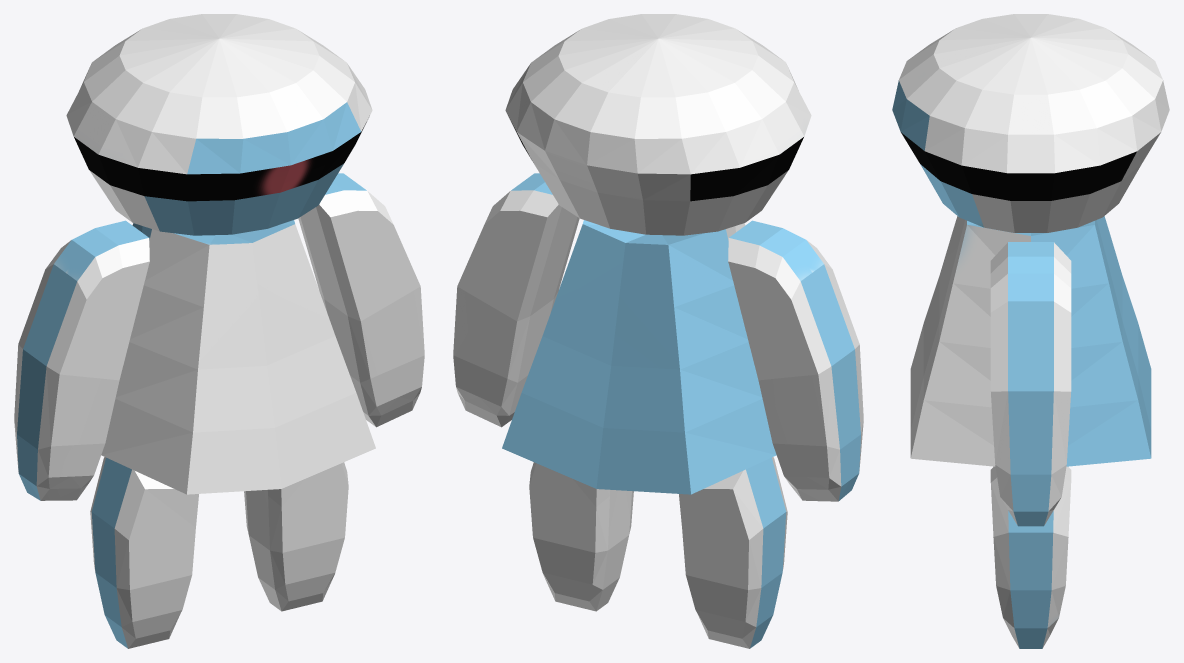
The model's file is Player.obj.
3 views of the same model, side by side, from view 1: azimuth 30°, elevation 25°; view 2: azimuth 150°, elevation 25°; view 3: azimuth 270°, elevation 25° (orthographic). The views are drawn at different scales.
Parts seen in each view (by area): view 1: legs; view 2: legs; view 3: legs.
Part boxes in pixels (x1=…): legs: x1=14, y1=14, x2=424, y2=648; legs: x1=453, y1=14, x2=863, y2=648; legs: x1=892, y1=14, x2=1169, y2=648.
Size of the model in its own units: 0.974 by 1.41 by 0.628.
